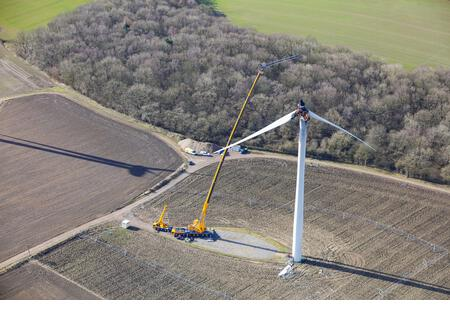faulty: (259, 95, 377, 265)
